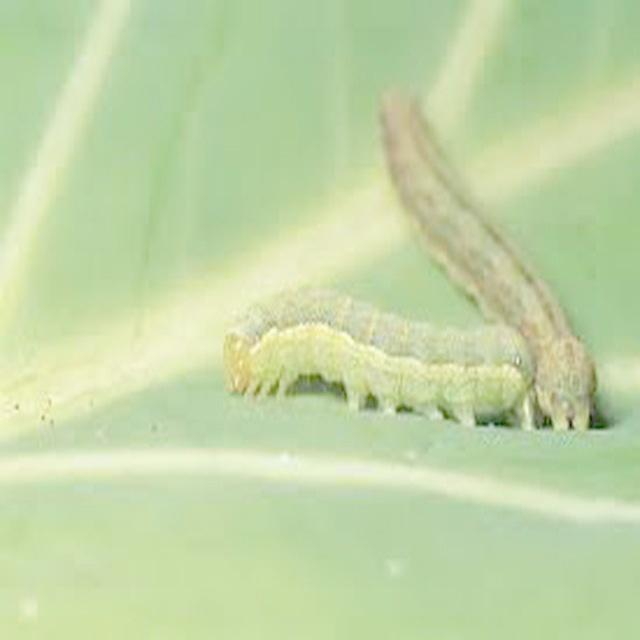gusano_cogollero: (372, 73, 600, 427)
